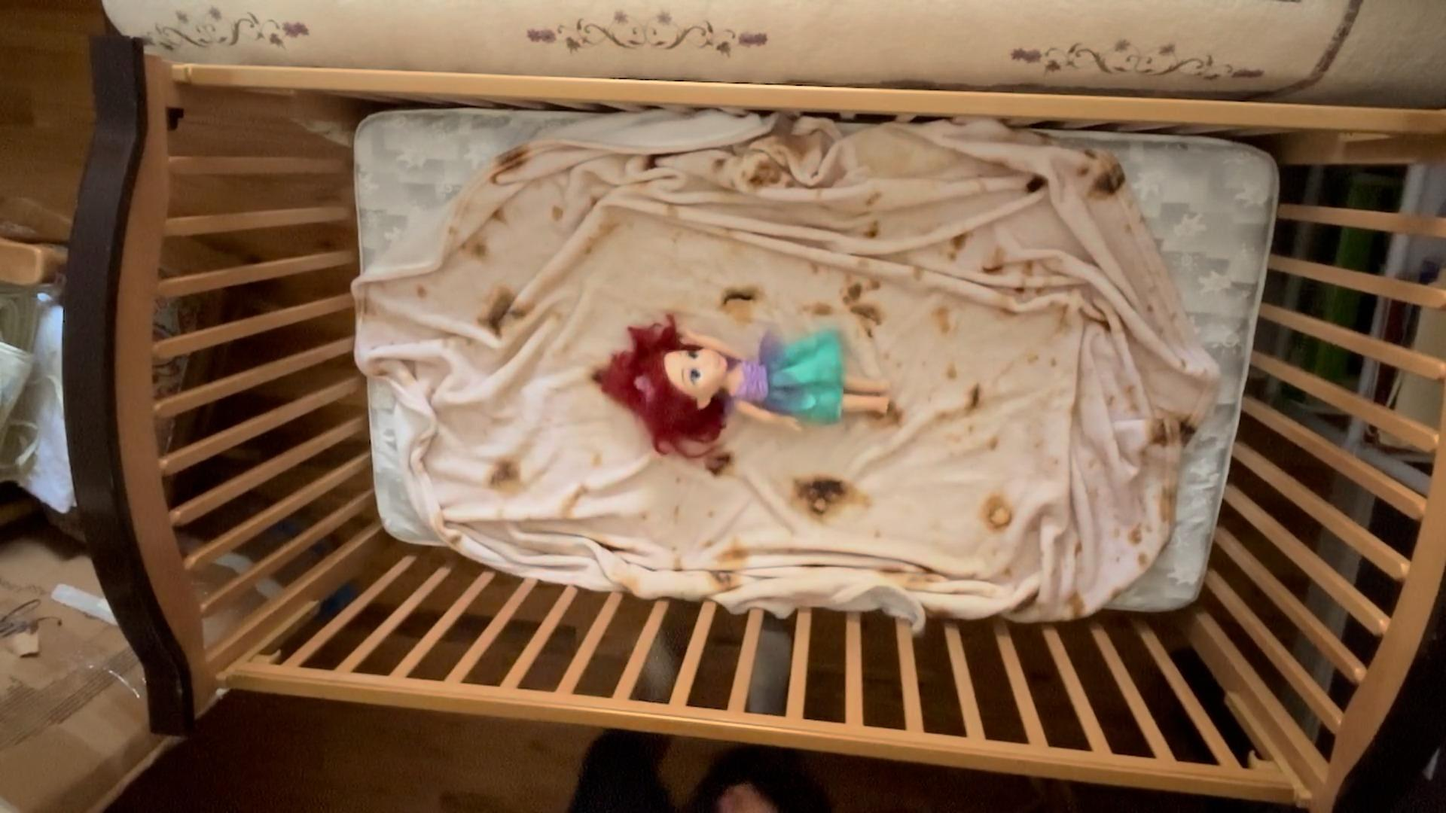baby: (597, 315, 896, 461)
